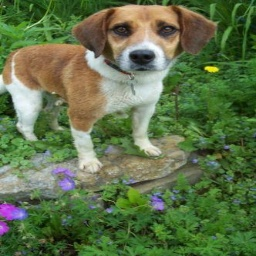dog: (1, 4, 217, 180)
